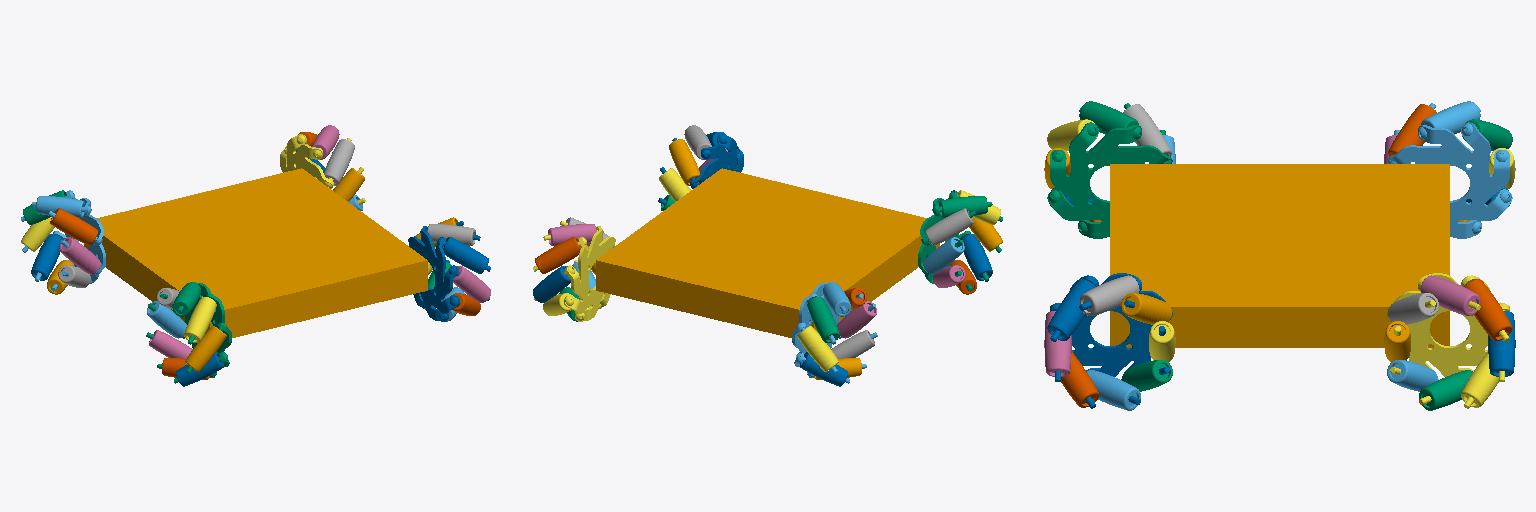
--- Facts derived from the render (not from the file) ---
3 views of the same robot in one strip: view 1: azimuth 30°, elevation 25°; view 2: azimuth 150°, elevation 25°; view 3: azimuth 270°, elevation 25° (orthographic).
Robot: OMNIDIRECTIONAL — 37 links, 36 joints (36 continuous); root link base_link; default pose: every joint at zero.
Visible links, largest first — view 1: base_link, FRAMEMirrorMirror1, FRAMEMirror1, FRAMEMirrorMirrorMirror1, FRAMEMirrorMirror_11, ROLLERMirrorMirror_18, ROLLERMirrorMirrorMirror8, ROLLERMirrorMirror7, ROLLERMirrorMirrorMirror4, ROLLERMirrorMirror_13, ROLLERMirror3, ROLLERMirrorMirror_17 (+9 smaller); view 2: base_link, FRAMEMirror1, FRAMEMirrorMirror1, FRAMEMirrorMirror_11, FRAMEMirrorMirrorMirror1, ROLLERMirrorMirrorMirror1, ROLLERMirrorMirror_14, ROLLERMirror6, ROLLERMirrorMirror_12, ROLLERMirrorMirrorMirror3, ROLLERMirrorMirror3, ROLLERMirrorMirrorMirror7 (+9 smaller); view 3: base_link, FRAMEMirrorMirror_11, FRAMEMirrorMirrorMirror1, FRAMEMirror1, FRAMEMirrorMirror1, ROLLERMirror5, ROLLERMirrorMirror5, ROLLERMirror6, ROLLERMirrorMirror7, ROLLERMirror1, ROLLERMirrorMirror1, ROLLERMirror3 (+15 smaller).
Link boxes in pixels (bbox=[...]): base_link: bbox=[84, 168, 427, 337]; FRAMEMirrorMirror1: bbox=[408, 221, 490, 321]; FRAMEMirror1: bbox=[280, 134, 365, 204]; FRAMEMirrorMirrorMirror1: bbox=[146, 282, 231, 383]; FRAMEMirrorMirror_11: bbox=[21, 190, 105, 291]; ROLLERMirrorMirror_18: bbox=[50, 208, 97, 245]; ROLLERMirrorMirrorMirror8: bbox=[185, 326, 226, 371]; ROLLERMirrorMirror7: bbox=[442, 237, 488, 273]; ROLLERMirrorMirrorMirror4: bbox=[184, 297, 216, 342]; ROLLERMirrorMirror_13: bbox=[31, 234, 62, 280]; ROLLERMirror3: bbox=[324, 139, 354, 185]; ROLLERMirrorMirror_17: bbox=[59, 237, 100, 274]; base_link: bbox=[596, 168, 939, 337]; FRAMEMirror1: bbox=[533, 221, 615, 321]; FRAMEMirrorMirror1: bbox=[658, 134, 743, 204]; FRAMEMirrorMirror_11: bbox=[792, 282, 877, 383]; FRAMEMirrorMirrorMirror1: bbox=[918, 190, 1002, 291]; ROLLERMirrorMirrorMirror1: bbox=[926, 208, 973, 245]; ROLLERMirrorMirror_14: bbox=[797, 326, 838, 371]; ROLLERMirror6: bbox=[535, 237, 581, 273]; ROLLERMirrorMirror_12: bbox=[807, 297, 839, 342]; ROLLERMirrorMirrorMirror3: bbox=[961, 234, 992, 280]; ROLLERMirrorMirror3: bbox=[669, 139, 699, 185]; ROLLERMirrorMirrorMirror7: bbox=[923, 237, 964, 274]; base_link: bbox=[1110, 164, 1449, 347]; FRAMEMirrorMirror_11: bbox=[1387, 103, 1512, 238]; FRAMEMirrorMirrorMirror1: bbox=[1047, 103, 1172, 238]; FRAMEMirror1: bbox=[1387, 273, 1509, 408]; FRAMEMirrorMirror1: bbox=[1050, 273, 1172, 408]; ROLLERMirror5: bbox=[1420, 275, 1480, 315]; ROLLERMirrorMirror5: bbox=[1079, 275, 1139, 315]; ROLLERMirror6: bbox=[1464, 279, 1512, 340]; ROLLERMirrorMirror7: bbox=[1047, 279, 1095, 340]; ROLLERMirror1: bbox=[1419, 370, 1472, 410]; ROLLERMirrorMirror1: bbox=[1087, 370, 1140, 410]; ROLLERMirror3: bbox=[1388, 293, 1438, 324].
Size in the robot's own frame: 0.2088 by 0.208 by 0.058 metres.
37 mesh visuals loaded from 37 distinct referenced files (37 binary STL).

URDF robot description (OMNIDIRECTIONAL):
<?xml version="1.0" ?>
<robot name="OMNIDIRECTIONAL">

<material name="silver">
  <color rgba="0.700 0.700 0.700 1.000"/>
</material>

<link name="base_link">
  <inertial>
    <origin xyz="-0.075 0.105 0.01" rpy="0 0 0"/>
    <mass value="3.5324999999999998"/>
    <inertia ixx="0.006741187500000009" iyy="0.006741187499999999" izz="0.013246875000000012" ixy="0.0" iyz="0.0" ixz="0.0"/>
  </inertial>
  <visual>
    <origin xyz="0 0 0" rpy="0 0 0"/>
    <geometry>
      <mesh filename="meshes/base_link.stl" scale="0.001 0.001 0.001"/>
    </geometry>
    <material name="silver"/>
    <material/>
  </visual>
  <collision>
    <origin xyz="0 0 0" rpy="0 0 0"/>
    <geometry>
      <mesh filename="meshes/base_link.stl" scale="0.001 0.001 0.001"/>
    </geometry>
  </collision>
</link>

<link name="ROLLERMirror2">
  <inertial>
    <origin xyz="-2.3803035404182382e-07 -3.424767636983628e-07 4.3054225323628514e-07" rpy="0 0 0"/>
    <mass value="0.02047655371552846"/>
    <inertia ixx="8.447399050387754e-07" iyy="1.0802059469359896e-06" izz="1.0802059469360286e-06" ixy="3.3299927073973857e-07" iyz="2.3546604189711765e-07" ixz="-3.329992707397786e-07"/>
  </inertial>
  <visual>
    <origin xyz="-0.016067 -0.163524 0.006051" rpy="0 0 0"/>
    <geometry>
      <mesh filename="meshes/ROLLERMirror2.stl" scale="0.001 0.001 0.001"/>
    </geometry>
    <material name="silver"/>
    <material/>
  </visual>
  <collision>
    <origin xyz="-0.016067 -0.163524 0.006051" rpy="0 0 0"/>
    <geometry>
      <mesh filename="meshes/ROLLERMirror2.stl" scale="0.001 0.001 0.001"/>
    </geometry>
  </collision>
</link>

<link name="ROLLERMirror1">
  <inertial>
    <origin xyz="-2.3803035383018756e-07 -6.698900456569845e-08 4.492760330432333e-14" rpy="0 0 0"/>
    <mass value="0.02047655371552846"/>
    <inertia ixx="8.447399050388838e-07" iyy="8.447399050388855e-07" izz="1.3156719888329565e-06" ixy="4.709320849405216e-07" iyz="2.710505431213761e-20" ixz="-2.710505431213761e-20"/>
  </inertial>
  <visual>
    <origin xyz="-0.016067 -0.179699 0.013" rpy="0 0 0"/>
    <geometry>
      <mesh filename="meshes/ROLLERMirror1.stl" scale="0.001 0.001 0.001"/>
    </geometry>
    <material name="silver"/>
    <material/>
  </visual>
  <collision>
    <origin xyz="-0.016067 -0.179699 0.013" rpy="0 0 0"/>
    <geometry>
      <mesh filename="meshes/ROLLERMirror1.stl" scale="0.001 0.001 0.001"/>
    </geometry>
  </collision>
</link>

<link name="ROLLERMirror8">
  <inertial>
    <origin xyz="-2.3803035460734367e-07 -4.305422693917649e-07 -3.42476780164358e-07" rpy="0 0 0"/>
    <mass value="0.02047655371552846"/>
    <inertia ixx="8.447399050387754e-07" iyy="1.0802059469359939e-06" izz="1.0802059469360286e-06" ixy="3.3299927073979956e-07" iyz="-2.35466041897077e-07" ixz="3.329992707397538e-07"/>
  </inertial>
  <visual>
    <origin xyz="-0.016067 -0.196051 0.006476" rpy="0 0 0"/>
    <geometry>
      <mesh filename="meshes/ROLLERMirror8.stl" scale="0.001 0.001 0.001"/>
    </geometry>
    <material name="silver"/>
    <material/>
  </visual>
  <collision>
    <origin xyz="-0.016067 -0.196051 0.006476" rpy="0 0 0"/>
    <geometry>
      <mesh filename="meshes/ROLLERMirror8.stl" scale="0.001 0.001 0.001"/>
    </geometry>
  </collision>
</link>

<link name="ROLLERMirror7">
  <inertial>
    <origin xyz="-2.3803035563776942e-07 -6.103451077876798e-14 -6.698902137690366e-08" rpy="0 0 0"/>
    <mass value="0.02047655371552846"/>
    <inertia ixx="8.44739905038667e-07" iyy="1.3156719888330768e-06" izz="8.447399050388838e-07" ixy="0.0" iyz="2.0328790734103208e-20" ixz="4.709320849405199e-07"/>
  </inertial>
  <visual>
    <origin xyz="-0.016067 -0.203 -0.009699" rpy="0 0 0"/>
    <geometry>
      <mesh filename="meshes/ROLLERMirror7.stl" scale="0.001 0.001 0.001"/>
    </geometry>
    <material name="silver"/>
    <material/>
  </visual>
  <collision>
    <origin xyz="-0.016067 -0.203 -0.009699" rpy="0 0 0"/>
    <geometry>
      <mesh filename="meshes/ROLLERMirror7.stl" scale="0.001 0.001 0.001"/>
    </geometry>
  </collision>
</link>

<link name="ROLLERMirror6">
  <inertial>
    <origin xyz="-2.3803035652941729e-07 3.4247676442000774e-07 -4.305422861804187e-07" rpy="0 0 0"/>
    <mass value="0.02047655371552846"/>
    <inertia ixx="8.44739905038667e-07" iyy="1.0802059469359507e-06" izz="1.0802059469360286e-06" ixy="-3.3299927073979956e-07" iyz="2.354660418971041e-07" ixz="3.3299927073974027e-07"/>
  </inertial>
  <visual>
    <origin xyz="-0.016067 -0.196476 -0.026051" rpy="0 0 0"/>
    <geometry>
      <mesh filename="meshes/ROLLERMirror6.stl" scale="0.001 0.001 0.001"/>
    </geometry>
    <material name="silver"/>
    <material/>
  </visual>
  <collision>
    <origin xyz="-0.016067 -0.196476 -0.026051" rpy="0 0 0"/>
    <geometry>
      <mesh filename="meshes/ROLLERMirror6.stl" scale="0.001 0.001 0.001"/>
    </geometry>
  </collision>
</link>

<link name="ROLLERMirror5">
  <inertial>
    <origin xyz="-2.3803035652941729e-07 6.698900534285457e-08 -7.790296185916645e-14" rpy="0 0 0"/>
    <mass value="0.02047655371552846"/>
    <inertia ixx="8.447399050387754e-07" iyy="8.447399050388534e-07" izz="1.3156719888329565e-06" ixy="-4.709320849405148e-07" iyz="-4.0657581468206416e-20" ixz="-3.218725199566341e-20"/>
  </inertial>
  <visual>
    <origin xyz="-0.016067 -0.180301 -0.033" rpy="0 0 0"/>
    <geometry>
      <mesh filename="meshes/ROLLERMirror5.stl" scale="0.001 0.001 0.001"/>
    </geometry>
    <material name="silver"/>
    <material/>
  </visual>
  <collision>
    <origin xyz="-0.016067 -0.180301 -0.033" rpy="0 0 0"/>
    <geometry>
      <mesh filename="meshes/ROLLERMirror5.stl" scale="0.001 0.001 0.001"/>
    </geometry>
  </collision>
</link>

<link name="ROLLERMirror3">
  <inertial>
    <origin xyz="-2.3803035617206425e-07 4.305422699468764e-07 3.4247674755155666e-07" rpy="0 0 0"/>
    <mass value="0.02047655371552846"/>
    <inertia ixx="8.447399050388838e-07" iyy="1.0802059469359608e-06" izz="1.0802059469359202e-06" ixy="-3.329992707397589e-07" iyz="-2.354660418971312e-07" ixz="-3.329992707397657e-07"/>
  </inertial>
  <visual>
    <origin xyz="-0.016067 -0.163949 -0.026476" rpy="0 0 0"/>
    <geometry>
      <mesh filename="meshes/ROLLERMirror3.stl" scale="0.001 0.001 0.001"/>
    </geometry>
    <material name="silver"/>
    <material/>
  </visual>
  <collision>
    <origin xyz="-0.016067 -0.163949 -0.026476" rpy="0 0 0"/>
    <geometry>
      <mesh filename="meshes/ROLLERMirror3.stl" scale="0.001 0.001 0.001"/>
    </geometry>
  </collision>
</link>

<link name="ROLLERMirror4">
  <inertial>
    <origin xyz="-2.380303550375551e-07 6.217248937900877e-14 6.698898856981328e-08" rpy="0 0 0"/>
    <mass value="0.02047655371552846"/>
    <inertia ixx="8.447399050388838e-07" iyy="1.3156719888330785e-06" izz="8.447399050387754e-07" ixy="-1.3552527156068805e-20" iyz="-1.3552527156068805e-20" ixz="-4.709320849405182e-07"/>
  </inertial>
  <visual>
    <origin xyz="-0.016067 -0.157 -0.010301" rpy="0 0 0"/>
    <geometry>
      <mesh filename="meshes/ROLLERMirror4.stl" scale="0.001 0.001 0.001"/>
    </geometry>
    <material name="silver"/>
    <material/>
  </visual>
  <collision>
    <origin xyz="-0.016067 -0.157 -0.010301" rpy="0 0 0"/>
    <geometry>
      <mesh filename="meshes/ROLLERMirror4.stl" scale="0.001 0.001 0.001"/>
    </geometry>
  </collision>
</link>

<link name="ROLLERMirrorMirror1">
  <inertial>
    <origin xyz="-2.3803034835886971e-07 6.698900459692347e-08 6.49671288988074e-14" rpy="0 0 0"/>
    <mass value="0.02047655371552846"/>
    <inertia ixx="8.447399050388466e-07" iyy="8.447399050388788e-07" izz="1.3156719888330887e-06" ixy="-4.709320849405216e-07" iyz="1.1858461261560205e-20" ixz="9.317362419797304e-21"/>
  </inertial>
  <visual>
    <origin xyz="-0.016067 -0.030301 0.013" rpy="0 0 0"/>
    <geometry>
      <mesh filename="meshes/ROLLERMirrorMirror1.stl" scale="0.001 0.001 0.001"/>
    </geometry>
    <material name="silver"/>
    <material/>
  </visual>
  <collision>
    <origin xyz="-0.016067 -0.030301 0.013" rpy="0 0 0"/>
    <geometry>
      <mesh filename="meshes/ROLLERMirrorMirror1.stl" scale="0.001 0.001 0.001"/>
    </geometry>
  </collision>
</link>

<link name="ROLLERMirrorMirror2">
  <inertial>
    <origin xyz="-2.3803034803621115e-07 3.424767638857129e-07 4.3054227321249333e-07" rpy="0 0 0"/>
    <mass value="0.02047655371552846"/>
    <inertia ixx="8.447399050388364e-07" iyy="1.0802059469359854e-06" izz="1.0802059469359812e-06" ixy="-3.329992707397623e-07" iyz="-2.3546604189709478e-07" ixz="-3.3299927073976017e-07"/>
  </inertial>
  <visual>
    <origin xyz="-0.016067 -0.046476 0.006051" rpy="0 0 0"/>
    <geometry>
      <mesh filename="meshes/ROLLERMirrorMirror2.stl" scale="0.001 0.001 0.001"/>
    </geometry>
    <material name="silver"/>
    <material/>
  </visual>
  <collision>
    <origin xyz="-0.016067 -0.046476 0.006051" rpy="0 0 0"/>
    <geometry>
      <mesh filename="meshes/ROLLERMirrorMirror2.stl" scale="0.001 0.001 0.001"/>
    </geometry>
  </collision>
</link>

<link name="ROLLERMirrorMirror4">
  <inertial>
    <origin xyz="-2.3803034729028005e-07 -6.178391132038996e-14 6.698900846535683e-08" rpy="0 0 0"/>
    <mass value="0.02047655371552846"/>
    <inertia ixx="8.447399050388432e-07" iyy="1.3156719888330776e-06" izz="8.447399050388838e-07" ixy="1.3552527156068805e-20" iyz="6.776263578034403e-21" ixz="-4.709320849405195e-07"/>
  </inertial>
  <visual>
    <origin xyz="-0.016067 -0.053 -0.010301" rpy="0 0 0"/>
    <geometry>
      <mesh filename="meshes/ROLLERMirrorMirror4.stl" scale="0.001 0.001 0.001"/>
    </geometry>
    <material name="silver"/>
    <material/>
  </visual>
  <collision>
    <origin xyz="-0.016067 -0.053 -0.010301" rpy="0 0 0"/>
    <geometry>
      <mesh filename="meshes/ROLLERMirrorMirror4.stl" scale="0.001 0.001 0.001"/>
    </geometry>
  </collision>
</link>

<link name="ROLLERMirrorMirror7">
  <inertial>
    <origin xyz="-2.380303479286583e-07 -3.424767645275606e-07 -4.305422661270153e-07" rpy="0 0 0"/>
    <mass value="0.02047655371552846"/>
    <inertia ixx="8.447399050388872e-07" iyy="1.080205946935954e-06" izz="1.0802059469359642e-06" ixy="3.329992707397657e-07" iyz="-2.354660418971151e-07" ixz="3.329992707397589e-07"/>
  </inertial>
  <visual>
    <origin xyz="-0.016067 -0.013524 -0.026051" rpy="0 0 0"/>
    <geometry>
      <mesh filename="meshes/ROLLERMirrorMirror7.stl" scale="0.001 0.001 0.001"/>
    </geometry>
    <material name="silver"/>
    <material/>
  </visual>
  <collision>
    <origin xyz="-0.016067 -0.013524 -0.026051" rpy="0 0 0"/>
    <geometry>
      <mesh filename="meshes/ROLLERMirrorMirror7.stl" scale="0.001 0.001 0.001"/>
    </geometry>
  </collision>
</link>

<link name="ROLLERMirrorMirror8">
  <inertial>
    <origin xyz="-2.3803034825131686e-07 4.30542269221762e-07 -3.424767605350945e-07" rpy="0 0 0"/>
    <mass value="0.02047655371552846"/>
    <inertia ixx="8.447399050388652e-07" iyy="1.0802059469359913e-06" izz="1.0802059469359693e-06" ixy="-3.3299927073975297e-07" iyz="2.3546604189710558e-07" ixz="3.3299927073977203e-07"/>
  </inertial>
  <visual>
    <origin xyz="-0.016067 -0.013949 0.006476" rpy="0 0 0"/>
    <geometry>
      <mesh filename="meshes/ROLLERMirrorMirror8.stl" scale="0.001 0.001 0.001"/>
    </geometry>
    <material name="silver"/>
    <material/>
  </visual>
  <collision>
    <origin xyz="-0.016067 -0.013949 0.006476" rpy="0 0 0"/>
    <geometry>
      <mesh filename="meshes/ROLLERMirrorMirror8.stl" scale="0.001 0.001 0.001"/>
    </geometry>
  </collision>
</link>

<link name="ROLLERMirrorMirror6">
  <inertial>
    <origin xyz="-2.38030348143764e-07 6.08532321755284e-14 -6.69890015542185e-08" rpy="0 0 0"/>
    <mass value="0.02047655371552846"/>
    <inertia ixx="8.447399050388775e-07" iyy="1.3156719888330802e-06" izz="8.447399050388517e-07" ixy="1.0587911840678754e-20" iyz="-1.6093625997831706e-20" ixz="4.709320849405182e-07"/>
  </inertial>
  <visual>
    <origin xyz="-0.016067 -0.007 -0.009699" rpy="0 0 0"/>
    <geometry>
      <mesh filename="meshes/ROLLERMirrorMirror6.stl" scale="0.001 0.001 0.001"/>
    </geometry>
    <material name="silver"/>
    <material/>
  </visual>
  <collision>
    <origin xyz="-0.016067 -0.007 -0.009699" rpy="0 0 0"/>
    <geometry>
      <mesh filename="meshes/ROLLERMirrorMirror6.stl" scale="0.001 0.001 0.001"/>
    </geometry>
  </collision>
</link>

<link name="ROLLERMirrorMirror5">
  <inertial>
    <origin xyz="-2.3803034768232756e-07 -6.698900534285457e-08 -5.801609193056834e-14" rpy="0 0 0"/>
    <mass value="0.02047655371552846"/>
    <inertia ixx="8.447399050388771e-07" iyy="8.447399050388432e-07" izz="1.3156719888330819e-06" ixy="4.709320849405182e-07" iyz="0.0" ixz="6.776263578034403e-21"/>
  </inertial>
  <visual>
    <origin xyz="-0.016067 -0.029699 -0.033" rpy="0 0 0"/>
    <geometry>
      <mesh filename="meshes/ROLLERMirrorMirror5.stl" scale="0.001 0.001 0.001"/>
    </geometry>
    <material name="silver"/>
    <material/>
  </visual>
  <collision>
    <origin xyz="-0.016067 -0.029699 -0.033" rpy="0 0 0"/>
    <geometry>
      <mesh filename="meshes/ROLLERMirrorMirror5.stl" scale="0.001 0.001 0.001"/>
    </geometry>
  </collision>
</link>

<link name="ROLLERMirrorMirror3">
  <inertial>
    <origin xyz="-2.3803034729028005e-07 -4.305422699260597e-07 3.4247676748005995e-07" rpy="0 0 0"/>
    <mass value="0.02047655371552846"/>
    <inertia ixx="8.447399050388838e-07" iyy="1.0802059469359642e-06" izz="1.080205946935988e-06" ixy="3.3299927073977245e-07" iyz="2.3546604189710749e-07" ixz="-3.3299927073975043e-07"/>
  </inertial>
  <visual>
    <origin xyz="-0.016067 -0.046051 -0.026476" rpy="0 0 0"/>
    <geometry>
      <mesh filename="meshes/ROLLERMirrorMirror3.stl" scale="0.001 0.001 0.001"/>
    </geometry>
    <material name="silver"/>
    <material/>
  </visual>
  <collision>
    <origin xyz="-0.016067 -0.046051 -0.026476" rpy="0 0 0"/>
    <geometry>
      <mesh filename="meshes/ROLLERMirrorMirror3.stl" scale="0.001 0.001 0.001"/>
    </geometry>
  </collision>
</link>

<link name="ROLLERMirrorMirrorMirror7">
  <inertial>
    <origin xyz="2.3803034907010634e-07 -6.112471639951877e-14 6.69890048501931e-08" rpy="0 0 0"/>
    <mass value="0.02047655371552846"/>
    <inertia ixx="8.447399050388567e-07" iyy="1.3156719888331734e-06" izz="8.447399050389923e-07" ixy="2.710505431213761e-20" iyz="0.0" ixz="4.7093208494053515e-07"/>
  </inertial>
  <visual>
    <origin xyz="0.166067 -0.053 -0.010301" rpy="0 0 0"/>
    <geometry>
      <mesh filename="meshes/ROLLERMirrorMirrorMirror7.stl" scale="0.001 0.001 0.001"/>
    </geometry>
    <material name="silver"/>
    <material/>
  </visual>
  <collision>
    <origin xyz="0.166067 -0.053 -0.010301" rpy="0 0 0"/>
    <geometry>
      <mesh filename="meshes/ROLLERMirrorMirrorMirror7.stl" scale="0.001 0.001 0.001"/>
    </geometry>
  </collision>
</link>

<link name="ROLLERMirrorMirrorMirror2">
  <inertial>
    <origin xyz="2.3803034931990652e-07 -6.698900495080706e-08 -6.152023335204149e-14" rpy="0 0 0"/>
    <mass value="0.02047655371552846"/>
    <inertia ixx="8.447399050388703e-07" iyy="8.447399050389923e-07" izz="1.3156719888331734e-06" ixy="-4.709320849405216e-07" iyz="3.3881317890172014e-21" ixz="-1.3552527156068805e-20"/>
  </inertial>
  <visual>
    <origin xyz="0.166067 -0.029699 -0.033" rpy="0 0 0"/>
    <geometry>
      <mesh filename="meshes/ROLLERMirrorMirrorMirror2.stl" scale="0.001 0.001 0.001"/>
    </geometry>
    <material name="silver"/>
    <material/>
  </visual>
  <collision>
    <origin xyz="0.166067 -0.029699 -0.033" rpy="0 0 0"/>
    <geometry>
      <mesh filename="meshes/ROLLERMirrorMirrorMirror2.stl" scale="0.001 0.001 0.001"/>
    </geometry>
  </collision>
</link>

<link name="ROLLERMirrorMirrorMirror4">
  <inertial>
    <origin xyz="2.3803034959746228e-07 -3.4247676412683947e-07 -4.305422697248318e-07" rpy="0 0 0"/>
    <mass value="0.02047655371552846"/>
    <inertia ixx="8.447399050388669e-07" iyy="1.0802059469359202e-06" izz="1.080205946936137e-06" ixy="-3.329992707397589e-07" iyz="-2.354660418971041e-07" ixz="-3.3299927073974535e-07"/>
  </inertial>
  <visual>
    <origin xyz="0.166067 -0.013524 -0.026051" rpy="0 0 0"/>
    <geometry>
      <mesh filename="meshes/ROLLERMirrorMirrorMirror4.stl" scale="0.001 0.001 0.001"/>
    </geometry>
    <material name="silver"/>
    <material/>
  </visual>
  <collision>
    <origin xyz="0.166067 -0.013524 -0.026051" rpy="0 0 0"/>
    <geometry>
      <mesh filename="meshes/ROLLERMirrorMirrorMirror4.stl" scale="0.001 0.001 0.001"/>
    </geometry>
  </collision>
</link>

<link name="ROLLERMirrorMirrorMirror3">
  <inertial>
    <origin xyz="2.3803034937541767e-07 4.3054226961034003e-07 -3.4247676422224926e-07" rpy="0 0 0"/>
    <mass value="0.02047655371552846"/>
    <inertia ixx="8.447399050388584e-07" iyy="1.0802059469359202e-06" izz="1.0802059469360286e-06" ixy="3.329992707397657e-07" iyz="2.3546604189710537e-07" ixz="-3.329992707397623e-07"/>
  </inertial>
  <visual>
    <origin xyz="0.166067 -0.013949 0.006476" rpy="0 0 0"/>
    <geometry>
      <mesh filename="meshes/ROLLERMirrorMirrorMirror3.stl" scale="0.001 0.001 0.001"/>
    </geometry>
    <material name="silver"/>
    <material/>
  </visual>
  <collision>
    <origin xyz="0.166067 -0.013949 0.006476" rpy="0 0 0"/>
    <geometry>
      <mesh filename="meshes/ROLLERMirrorMirrorMirror3.stl" scale="0.001 0.001 0.001"/>
    </geometry>
  </collision>
</link>

<link name="ROLLERMirrorMirrorMirror5">
  <inertial>
    <origin xyz="2.3803034926439537e-07 6.698900503060434e-08 6.123400397850531e-14" rpy="0 0 0"/>
    <mass value="0.02047655371552846"/>
    <inertia ixx="8.447399050388601e-07" iyy="8.447399050388838e-07" izz="1.315671988833065e-06" ixy="4.7093208494050805e-07" iyz="3.3881317890172014e-21" ixz="0.0"/>
  </inertial>
  <visual>
    <origin xyz="0.166067 -0.030301 0.013" rpy="0 0 0"/>
    <geometry>
      <mesh filename="meshes/ROLLERMirrorMirrorMirror5.stl" scale="0.001 0.001 0.001"/>
    </geometry>
    <material name="silver"/>
    <material/>
  </visual>
  <collision>
    <origin xyz="0.166067 -0.030301 0.013" rpy="0 0 0"/>
    <geometry>
      <mesh filename="meshes/ROLLERMirrorMirrorMirror5.stl" scale="0.001 0.001 0.001"/>
    </geometry>
  </collision>
</link>

<link name="ROLLERMirrorMirrorMirror6">
  <inertial>
    <origin xyz="2.380303490145952e-07 3.4247676428122986e-07 4.3054226956957403e-07" rpy="0 0 0"/>
    <mass value="0.02047655371552846"/>
    <inertia ixx="8.447399050388703e-07" iyy="1.0802059469359202e-06" izz="1.0802059469358118e-06" ixy="3.3299927073974535e-07" iyz="-2.3546604189710325e-07" ixz="3.329992707397657e-07"/>
  </inertial>
  <visual>
    <origin xyz="0.166067 -0.046476 0.006051" rpy="0 0 0"/>
    <geometry>
      <mesh filename="meshes/ROLLERMirrorMirrorMirror6.stl" scale="0.001 0.001 0.001"/>
    </geometry>
    <material name="silver"/>
    <material/>
  </visual>
  <collision>
    <origin xyz="0.166067 -0.046476 0.006051" rpy="0 0 0"/>
    <geometry>
      <mesh filename="meshes/ROLLERMirrorMirrorMirror6.stl" scale="0.001 0.001 0.001"/>
    </geometry>
  </collision>
</link>

<link name="ROLLERMirrorMirrorMirror1">
  <inertial>
    <origin xyz="2.3803034915337307e-07 -4.3054226941952045e-07 3.424767637955073e-07" rpy="0 0 0"/>
    <mass value="0.02047655371552846"/>
    <inertia ixx="8.447399050388771e-07" iyy="1.0802059469358118e-06" izz="1.0802059469359202e-06" ixy="-3.3299927073977245e-07" iyz="2.3546604189710749e-07" ixz="3.329992707397589e-07"/>
  </inertial>
  <visual>
    <origin xyz="0.166067 -0.046051 -0.026476" rpy="0 0 0"/>
    <geometry>
      <mesh filename="meshes/ROLLERMirrorMirrorMirror1.stl" scale="0.001 0.001 0.001"/>
    </geometry>
    <material name="silver"/>
    <material/>
  </visual>
  <collision>
    <origin xyz="0.166067 -0.046051 -0.026476" rpy="0 0 0"/>
    <geometry>
      <mesh filename="meshes/ROLLERMirrorMirrorMirror1.stl" scale="0.001 0.001 0.001"/>
    </geometry>
  </collision>
</link>

<link name="ROLLERMirrorMirrorMirror8">
  <inertial>
    <origin xyz="2.3803039278513793e-07 1.5612511283791264e-16 -6.698904826685226e-08" rpy="0 0 0"/>
    <mass value="0.02047655371552846"/>
    <inertia ixx="8.447399044657115e-07" iyy="1.3156719899792835e-06" izz="8.447399044655577e-07" ixy="0.0" iyz="3.5998900258307764e-21" ixz="-4.709320843673717e-07"/>
  </inertial>
  <visual>
    <origin xyz="0.166067 -0.007 -0.009699" rpy="0 0 0"/>
    <geometry>
      <mesh filename="meshes/ROLLERMirrorMirrorMirror8.stl" scale="0.001 0.001 0.001"/>
    </geometry>
    <material name="silver"/>
    <material/>
  </visual>
  <collision>
    <origin xyz="0.166067 -0.007 -0.009699" rpy="0 0 0"/>
    <geometry>
      <mesh filename="meshes/ROLLERMirrorMirrorMirror8.stl" scale="0.001 0.001 0.001"/>
    </geometry>
  </collision>
</link>

<link name="ROLLERMirrorMirror_11">
  <inertial>
    <origin xyz="2.3803034937541767e-07 6.698900495427651e-08 -6.183942247162122e-14" rpy="0 0 0"/>
    <mass value="0.02047655371552846"/>
    <inertia ixx="8.447399050387754e-07" iyy="8.447399050387754e-07" izz="1.315671988833065e-06" ixy="4.7093208494039963e-07" iyz="1.3552527156068805e-20" ixz="-1.3552527156068805e-20"/>
  </inertial>
  <visual>
    <origin xyz="0.166067 -0.180301 -0.033" rpy="0 0 0"/>
    <geometry>
      <mesh filename="meshes/ROLLERMirrorMirror_11.stl" scale="0.001 0.001 0.001"/>
    </geometry>
    <material name="silver"/>
    <material/>
  </visual>
  <collision>
    <origin xyz="0.166067 -0.180301 -0.033" rpy="0 0 0"/>
    <geometry>
      <mesh filename="meshes/ROLLERMirrorMirror_11.stl" scale="0.001 0.001 0.001"/>
    </geometry>
  </collision>
</link>

<link name="ROLLERMirrorMirror_12">
  <inertial>
    <origin xyz="2.3803034970848458e-07 3.424767640036741e-07 -4.305422699989181e-07" rpy="0 0 0"/>
    <mass value="0.02047655371552846"/>
    <inertia ixx="8.447399050391007e-07" iyy="1.0802059469360286e-06" izz="1.0802059469360286e-06" ixy="3.3299927073985377e-07" iyz="2.3546604189711765e-07" ixz="-3.3299927073974535e-07"/>
  </inertial>
  <visual>
    <origin xyz="0.166067 -0.196476 -0.026051" rpy="0 0 0"/>
    <geometry>
      <mesh filename="meshes/ROLLERMirrorMirror_12.stl" scale="0.001 0.001 0.001"/>
    </geometry>
    <material name="silver"/>
    <material/>
  </visual>
  <collision>
    <origin xyz="0.166067 -0.196476 -0.026051" rpy="0 0 0"/>
    <geometry>
      <mesh filename="meshes/ROLLERMirrorMirror_12.stl" scale="0.001 0.001 0.001"/>
    </geometry>
  </collision>
</link>

<link name="ROLLERMirrorMirror_14">
  <inertial>
    <origin xyz="2.3803034948643997e-07 -6.136757768615553e-14 -6.698900527520035e-08" rpy="0 0 0"/>
    <mass value="0.02047655371552846"/>
    <inertia ixx="8.447399050387754e-07" iyy="1.3156719888329565e-06" izz="8.447399050389923e-07" ixy="0.0" iyz="6.776263578034403e-21" ixz="-4.709320849405148e-07"/>
  </inertial>
  <visual>
    <origin xyz="0.166067 -0.203 -0.009699" rpy="0 0 0"/>
    <geometry>
      <mesh filename="meshes/ROLLERMirrorMirror_14.stl" scale="0.001 0.001 0.001"/>
    </geometry>
    <material name="silver"/>
    <material/>
  </visual>
  <collision>
    <origin xyz="0.166067 -0.203 -0.009699" rpy="0 0 0"/>
    <geometry>
      <mesh filename="meshes/ROLLERMirrorMirror_14.stl" scale="0.001 0.001 0.001"/>
    </geometry>
  </collision>
</link>

<link name="ROLLERMirrorMirror_13">
  <inertial>
    <origin xyz="2.380303494586844e-07 -4.3054226966932063e-07 -3.4247676434541463e-07" rpy="0 0 0"/>
    <mass value="0.02047655371552846"/>
    <inertia ixx="8.447399050387754e-07" iyy="1.0802059469359202e-06" izz="1.0802059469360286e-06" ixy="-3.3299927073974535e-07" iyz="-2.3546604189710749e-07" ixz="-3.329992707397555e-07"/>
  </inertial>
  <visual>
    <origin xyz="0.166067 -0.196051 0.006476" rpy="0 0 0"/>
    <geometry>
      <mesh filename="meshes/ROLLERMirrorMirror_13.stl" scale="0.001 0.001 0.001"/>
    </geometry>
    <material name="silver"/>
    <material/>
  </visual>
  <collision>
    <origin xyz="0.166067 -0.196051 0.006476" rpy="0 0 0"/>
    <geometry>
      <mesh filename="meshes/ROLLERMirrorMirror_13.stl" scale="0.001 0.001 0.001"/>
    </geometry>
  </collision>
</link>

<link name="ROLLERMirrorMirror_18">
  <inertial>
    <origin xyz="2.3803034890357289e-07 4.305422696138095e-07 3.424767636185655e-07" rpy="0 0 0"/>
    <mass value="0.02047655371552846"/>
    <inertia ixx="8.447399050391007e-07" iyy="1.0802059469360286e-06" izz="1.0802059469360286e-06" ixy="3.3299927073974535e-07" iyz="-2.3546604189709055e-07" ixz="3.3299927073974535e-07"/>
  </inertial>
  <visual>
    <origin xyz="0.166067 -0.163949 -0.026476" rpy="0 0 0"/>
    <geometry>
      <mesh filename="meshes/ROLLERMirrorMirror_18.stl" scale="0.001 0.001 0.001"/>
    </geometry>
    <material name="silver"/>
    <material/>
  </visual>
  <collision>
    <origin xyz="0.166067 -0.163949 -0.026476" rpy="0 0 0"/>
    <geometry>
      <mesh filename="meshes/ROLLERMirrorMirror_18.stl" scale="0.001 0.001 0.001"/>
    </geometry>
  </collision>
</link>

<link name="ROLLERMirrorMirror_17">
  <inertial>
    <origin xyz="2.380303489868396e-07 6.11455330812305e-14 6.698900470794578e-08" rpy="0 0 0"/>
    <mass value="0.02047655371552846"/>
    <inertia ixx="8.447399050387754e-07" iyy="1.315671988833065e-06" izz="8.447399050387754e-07" ixy="0.0" iyz="0.0" ixz="4.709320849405284e-07"/>
  </inertial>
  <visual>
    <origin xyz="0.166067 -0.157 -0.010301" rpy="0 0 0"/>
    <geometry>
      <mesh filename="meshes/ROLLERMirrorMirror_17.stl" scale="0.001 0.001 0.001"/>
    </geometry>
    <material name="silver"/>
    <material/>
  </visual>
  <collision>
    <origin xyz="0.166067 -0.157 -0.010301" rpy="0 0 0"/>
    <geometry>
      <mesh filename="meshes/ROLLERMirrorMirror_17.stl" scale="0.001 0.001 0.001"/>
    </geometry>
  </collision>
</link>

<link name="ROLLERMirrorMirror_16">
  <inertial>
    <origin xyz="2.380303490145952e-07 -3.42476764142452e-07 4.305422693666114e-07" rpy="0 0 0"/>
    <mass value="0.02047655371552846"/>
    <inertia ixx="8.447399050387754e-07" iyy="1.0802059469359202e-06" izz="1.0802059469358118e-06" ixy="-3.3299927073985377e-07" iyz="2.354660418971041e-07" ixz="3.329992707397623e-07"/>
  </inertial>
  <visual>
    <origin xyz="0.166067 -0.163524 0.006051" rpy="0 0 0"/>
    <geometry>
      <mesh filename="meshes/ROLLERMirrorMirror_16.stl" scale="0.001 0.001 0.001"/>
    </geometry>
    <material name="silver"/>
    <material/>
  </visual>
  <collision>
    <origin xyz="0.166067 -0.163524 0.006051" rpy="0 0 0"/>
    <geometry>
      <mesh filename="meshes/ROLLERMirrorMirror_16.stl" scale="0.001 0.001 0.001"/>
    </geometry>
  </collision>
</link>

<link name="ROLLERMirrorMirror_15">
  <inertial>
    <origin xyz="2.3803034926439537e-07 -6.698900506529881e-08 6.102410243791212e-14" rpy="0 0 0"/>
    <mass value="0.02047655371552846"/>
    <inertia ixx="8.447399050388838e-07" iyy="8.447399050387754e-07" izz="1.315671988833065e-06" ixy="-4.7093208494061647e-07" iyz="-6.776263578034403e-21" ixz="0.0"/>
  </inertial>
  <visual>
    <origin xyz="0.166067 -0.179699 0.013" rpy="0 0 0"/>
    <geometry>
      <mesh filename="meshes/ROLLERMirrorMirror_15.stl" scale="0.001 0.001 0.001"/>
    </geometry>
    <material name="silver"/>
    <material/>
  </visual>
  <collision>
    <origin xyz="0.166067 -0.179699 0.013" rpy="0 0 0"/>
    <geometry>
      <mesh filename="meshes/ROLLERMirrorMirror_15.stl" scale="0.001 0.001 0.001"/>
    </geometry>
  </collision>
</link>

<link name="FRAMEMirrorMirror_11">
  <inertial>
    <origin xyz="-0.006438473738459793 -4.564760236469567e-10 -5.056800516517468e-10" rpy="0 0 0"/>
    <mass value="0.04425548570320003"/>
    <inertia ixx="2.085012511926932e-05" iyy="1.3324143863560492e-05" izz="1.3324145137874697e-05" ixy="-3.7231957968064666e-13" iyz="3.284101777415588e-13" ixz="-3.377521515506715e-13"/>
  </inertial>
  <visual>
    <origin xyz="0.15 -0.18 -0.01" rpy="0 0 0"/>
    <geometry>
      <mesh filename="meshes/FRAMEMirrorMirror_11.stl" scale="0.001 0.001 0.001"/>
    </geometry>
    <material name="silver"/>
    <material/>
  </visual>
  <collision>
    <origin xyz="0.15 -0.18 -0.01" rpy="0 0 0"/>
    <geometry>
      <mesh filename="meshes/FRAMEMirrorMirror_11.stl" scale="0.001 0.001 0.001"/>
    </geometry>
  </collision>
</link>

<link name="FRAMEMirrorMirrorMirror1">
  <inertial>
    <origin xyz="-0.006438473738459932 4.5647609303589576e-10 -5.056800672642581e-10" rpy="0 0 0"/>
    <mass value="0.04425548570320003"/>
    <inertia ixx="2.0850125119268575e-05" iyy="1.3324143863560492e-05" izz="1.3324145137874914e-05" ixy="3.723189833694518e-13" iyz="-3.284099321020041e-13" ixz="-3.3775211089309004e-13"/>
  </inertial>
  <visual>
    <origin xyz="0.15 -0.03 -0.01" rpy="0 0 0"/>
    <geometry>
      <mesh filename="meshes/FRAMEMirrorMirrorMirror1.stl" scale="0.001 0.001 0.001"/>
    </geometry>
    <material name="silver"/>
    <material/>
  </visual>
  <collision>
    <origin xyz="0.15 -0.03 -0.01" rpy="0 0 0"/>
    <geometry>
      <mesh filename="meshes/FRAMEMirrorMirrorMirror1.stl" scale="0.001 0.001 0.001"/>
    </geometry>
  </collision>
</link>

<link name="FRAMEMirror1">
  <inertial>
    <origin xyz="0.006438473738459809 4.564763844694397e-10 5.056801331837502e-10" rpy="0 0 0"/>
    <mass value="0.04425548570320003"/>
    <inertia ixx="2.0850125119269104e-05" iyy="1.3324143863559876e-05" izz="1.332414513787513e-05" ixy="-3.7231874620022656e-13" iyz="3.284102997143032e-13" ixz="-3.3775219432583535e-13"/>
  </inertial>
  <visual>
    <origin xyz="-0.0 -0.18 -0.01" rpy="0 0 0"/>
    <geometry>
      <mesh filename="meshes/FRAMEMirror1.stl" scale="0.001 0.001 0.001"/>
    </geometry>
    <material name="silver"/>
    <material/>
  </visual>
  <collision>
    <origin xyz="-0.0 -0.18 -0.01" rpy="0 0 0"/>
    <geometry>
      <mesh filename="meshes/FRAMEMirror1.stl" scale="0.001 0.001 0.001"/>
    </geometry>
  </collision>
</link>

<link name="FRAMEMirrorMirror1">
  <inertial>
    <origin xyz="0.0064384737384598 -4.5647622487487993e-10 5.056800117531068e-10" rpy="0 0 0"/>
    <mass value="0.04425548570320003"/>
    <inertia ixx="2.0850125119269368e-05" iyy="1.3324143863560374e-05" izz="1.332414513787532e-05" ixy="3.723191968217545e-13" iyz="-3.284101980703495e-13" ixz="-3.37752135880562e-13"/>
  </inertial>
  <visual>
    <origin xyz="-0.0 -0.03 -0.01" rpy="0 0 0"/>
    <geometry>
      <mesh filename="meshes/FRAMEMirrorMirror1.stl" scale="0.001 0.001 0.001"/>
    </geometry>
    <material name="silver"/>
    <material/>
  </visual>
  <collision>
    <origin xyz="-0.0 -0.03 -0.01" rpy="0 0 0"/>
    <geometry>
      <mesh filename="meshes/FRAMEMirrorMirror1.stl" scale="0.001 0.001 0.001"/>
    </geometry>
  </collision>
</link>

<joint name="Revolute_30" type="continuous">
  <origin xyz="0.016067 -0.016476 -0.016051" rpy="0 0 0"/>
  <parent link="FRAMEMirror1"/>
  <child link="ROLLERMirror2"/>
  <axis xyz="-0.707107 0.5 -0.5"/>
</joint>
<transmission name="Revolute_30_tran">
  <type>transmission_interface/SimpleTransmission</type>
  <joint name="Revolute_30">
    <hardwareInterface>PositionJointInterface</hardwareInterface>
  </joint>
  <actuator name="Revolute_30_actr">
    <hardwareInterface>PositionJointInterface</hardwareInterface>
    <mechanicalReduction>1</mechanicalReduction>
  </actuator>
</transmission>

<joint name="Revolute_31" type="continuous">
  <origin xyz="0.016067 -0.000301 -0.023" rpy="0 0 0"/>
  <parent link="FRAMEMirror1"/>
  <child link="ROLLERMirror1"/>
  <axis xyz="-0.707107 0.707107 0.0"/>
</joint>
<transmission name="Revolute_31_tran">
  <type>transmission_interface/SimpleTransmission</type>
  <joint name="Revolute_31">
    <hardwareInterface>PositionJointInterface</hardwareInterface>
  </joint>
  <actuator name="Revolute_31_actr">
    <hardwareInterface>PositionJointInterface</hardwareInterface>
    <mechanicalReduction>1</mechanicalReduction>
  </actuator>
</transmission>

<joint name="Revolute_32" type="continuous">
  <origin xyz="0.016067 0.016051 -0.016476" rpy="0 0 0"/>
  <parent link="FRAMEMirror1"/>
  <child link="ROLLERMirror8"/>
  <axis xyz="-0.707107 0.5 0.5"/>
</joint>
<transmission name="Revolute_32_tran">
  <type>transmission_interface/SimpleTransmission</type>
  <joint name="Revolute_32">
    <hardwareInterface>PositionJointInterface</hardwareInterface>
  </joint>
  <actuator name="Revolute_32_actr">
    <hardwareInterface>PositionJointInterface</hardwareInterface>
    <mechanicalReduction>1</mechanicalReduction>
  </actuator>
</transmission>

<joint name="Revolute_33" type="continuous">
  <origin xyz="0.016067 0.023 -0.000301" rpy="0 0 0"/>
  <parent link="FRAMEMirror1"/>
  <child link="ROLLERMirror7"/>
  <axis xyz="-0.707107 -0.0 0.707107"/>
</joint>
<transmission name="Revolute_33_tran">
  <type>transmission_interface/SimpleTransmission</type>
  <joint name="Revolute_33">
    <hardwareInterface>PositionJointInterface</hardwareInterface>
  </joint>
  <actuator name="Revolute_33_actr">
    <hardwareInterface>PositionJointInterface</hardwareInterface>
    <mechanicalReduction>1</mechanicalReduction>
  </actuator>
</transmission>

<joint name="Revolute_34" type="continuous">
  <origin xyz="0.016067 0.016476 0.016051" rpy="0 0 0"/>
  <parent link="FRAMEMirror1"/>
  <child link="ROLLERMirror6"/>
  <axis xyz="-0.707107 -0.5 0.5"/>
</joint>
<transmission name="Revolute_34_tran">
  <type>transmission_interface/SimpleTransmission</type>
  <joint name="Revolute_34">
    <hardwareInterface>PositionJointInterface</hardwareInterface>
  </joint>
  <actuator name="Revolute_34_actr">
    <hardwareInterface>PositionJointInterface</hardwareInterface>
    <mechanicalReduction>1</mechanicalReduction>
  </actuator>
</transmission>

<joint name="Revolute_35" type="continuous">
  <origin xyz="0.016067 0.000301 0.023" rpy="0 0 0"/>
  <parent link="FRAMEMirror1"/>
  <child link="ROLLERMirror5"/>
  <axis xyz="-0.707107 -0.707107 -0.0"/>
</joint>
<transmission name="Revolute_35_tran">
  <type>transmission_interface/SimpleTransmission</type>
  <joint name="Revolute_35">
    <hardwareInterface>PositionJointInterface</hardwareInterface>
  </joint>
  <actuator name="Revolute_35_actr">
    <hardwareInterface>PositionJointInterface</hardwareInterface>
    <mechanicalReduction>1</mechanicalReduction>
  </actuator>
</transmission>

<joint name="Revolute_36" type="continuous">
  <origin xyz="0.016067 -0.016051 0.016476" rpy="0 0 0"/>
  <parent link="FRAMEMirror1"/>
  <child link="ROLLERMirror3"/>
  <axis xyz="-0.707107 -0.5 -0.5"/>
</joint>
<transmission name="Revolute_36_tran">
  <type>transmission_interface/SimpleTransmission</type>
  <joint name="Revolute_36">
    <hardwareInterface>PositionJointInterface</hardwareInterface>
  </joint>
  <actuator name="Revolute_36_actr">
    <hardwareInterface>PositionJointInterface</hardwareInterface>
    <mechanicalReduction>1</mechanicalReduction>
  </actuator>
</transmission>

<joint name="Revolute_37" type="continuous">
  <origin xyz="0.016067 -0.023 0.000301" rpy="0 0 0"/>
  <parent link="FRAMEMirror1"/>
  <child link="ROLLERMirror4"/>
  <axis xyz="-0.707107 -0.0 -0.707107"/>
</joint>
<transmission name="Revolute_37_tran">
  <type>transmission_interface/SimpleTransmission</type>
  <joint name="Revolute_37">
    <hardwareInterface>PositionJointInterface</hardwareInterface>
  </joint>
  <actuator name="Revolute_37_actr">
    <hardwareInterface>PositionJointInterface</hardwareInterface>
    <mechanicalReduction>1</mechanicalReduction>
  </actuator>
</transmission>

<joint name="Revolute_38" type="continuous">
  <origin xyz="0.016067 0.000301 -0.023" rpy="0 0 0"/>
  <parent link="FRAMEMirrorMirror1"/>
  <child link="ROLLERMirrorMirror1"/>
  <axis xyz="0.707107 0.707107 -0.0"/>
</joint>
<transmission name="Revolute_38_tran">
  <type>transmission_interface/SimpleTransmission</type>
  <joint name="Revolute_38">
    <hardwareInterface>PositionJointInterface</hardwareInterface>
  </joint>
  <actuator name="Revolute_38_actr">
    <hardwareInterface>PositionJointInterface</hardwareInterface>
    <mechanicalReduction>1</mechanicalReduction>
  </actuator>
</transmission>

<joint name="Revolute_39" type="continuous">
  <origin xyz="0.016067 0.016476 -0.016051" rpy="0 0 0"/>
  <parent link="FRAMEMirrorMirror1"/>
  <child link="ROLLERMirrorMirror2"/>
  <axis xyz="0.707107 0.5 0.5"/>
</joint>
<transmission name="Revolute_39_tran">
  <type>transmission_interface/SimpleTransmission</type>
  <joint name="Revolute_39">
    <hardwareInterface>PositionJointInterface</hardwareInterface>
  </joint>
  <actuator name="Revolute_39_actr">
    <hardwareInterface>PositionJointInterface</hardwareInterface>
    <mechanicalReduction>1</mechanicalReduction>
  </actuator>
</transmission>

<joint name="Revolute_40" type="continuous">
  <origin xyz="0.016067 0.023 0.000301" rpy="0 0 0"/>
  <parent link="FRAMEMirrorMirror1"/>
  <child link="ROLLERMirrorMirror4"/>
  <axis xyz="0.707107 -0.0 0.707107"/>
</joint>
<transmission name="Revolute_40_tran">
  <type>transmission_interface/SimpleTransmission</type>
  <joint name="Revolute_40">
    <hardwareInterface>PositionJointInterface</hardwareInterface>
  </joint>
  <actuator name="Revolute_40_actr">
    <hardwareInterface>PositionJointInterface</hardwareInterface>
    <mechanicalReduction>1</mechanicalReduction>
  </actuator>
</transmission>

<joint name="Revolute_41" type="continuous">
  <origin xyz="0.016067 -0.016476 0.016051" rpy="0 0 0"/>
  <parent link="FRAMEMirrorMirror1"/>
  <child link="ROLLERMirrorMirror7"/>
  <axis xyz="0.707107 -0.5 -0.5"/>
</joint>
<transmission name="Revolute_41_tran">
  <type>transmission_interface/SimpleTransmission</type>
  <joint name="Revolute_41">
    <hardwareInterface>PositionJointInterface</hardwareInterface>
  </joint>
  <actuator name="Revolute_41_actr">
    <hardwareInterface>PositionJointInterface</hardwareInterface>
    <mechanicalReduction>1</mechanicalReduction>
  </actuator>
</transmission>

<joint name="Revolute_42" type="continuous">
  <origin xyz="0.016067 -0.016051 -0.016476" rpy="0 0 0"/>
  <parent link="FRAMEMirrorMirror1"/>
  <child link="ROLLERMirrorMirror8"/>
  <axis xyz="0.707107 0.5 -0.5"/>
</joint>
<transmission name="Revolute_42_tran">
  <type>transmission_interface/SimpleTransmission</type>
  <joint name="Revolute_42">
    <hardwareInterface>PositionJointInterface</hardwareInterface>
  </joint>
  <actuator name="Revolute_42_actr">
    <hardwareInterface>PositionJointInterface</hardwareInterface>
    <mechanicalReduction>1</mechanicalReduction>
  </actuator>
</transmission>

<joint name="Revolute_43" type="continuous">
  <origin xyz="0.016067 -0.023 -0.000301" rpy="0 0 0"/>
  <parent link="FRAMEMirrorMirror1"/>
  <child link="ROLLERMirrorMirror6"/>
  <axis xyz="0.707107 -0.0 -0.707107"/>
</joint>
<transmission name="Revolute_43_tran">
  <type>transmission_interface/SimpleTransmission</type>
  <joint name="Revolute_43">
    <hardwareInterface>PositionJointInterface</hardwareInterface>
  </joint>
  <actuator name="Revolute_43_actr">
    <hardwareInterface>PositionJointInterface</hardwareInterface>
    <mechanicalReduction>1</mechanicalReduction>
  </actuator>
</transmission>

<joint name="Revolute_44" type="continuous">
  <origin xyz="0.016067 -0.000301 0.023" rpy="0 0 0"/>
  <parent link="FRAMEMirrorMirror1"/>
  <child link="ROLLERMirrorMirror5"/>
  <axis xyz="0.707107 -0.707107 0.0"/>
</joint>
<transmission name="Revolute_44_tran">
  <type>transmission_interface/SimpleTransmission</type>
  <joint name="Revolute_44">
    <hardwareInterface>PositionJointInterface</hardwareInterface>
  </joint>
  <actuator name="Revolute_44_actr">
    <hardwareInterface>PositionJointInterface</hardwareInterface>
    <mechanicalReduction>1</mechanicalReduction>
  </actuator>
</transmission>

<joint name="Revolute_45" type="continuous">
  <origin xyz="0.016067 0.016051 0.016476" rpy="0 0 0"/>
  <parent link="FRAMEMirrorMirror1"/>
  <child link="ROLLERMirrorMirror3"/>
  <axis xyz="0.707107 -0.5 0.5"/>
</joint>
<transmission name="Revolute_45_tran">
  <type>transmission_interface/SimpleTransmission</type>
  <joint name="Revolute_45">
    <hardwareInterface>PositionJointInterface</hardwareInterface>
  </joint>
  <actuator name="Revolute_45_actr">
    <hardwareInterface>PositionJointInterface</hardwareInterface>
    <mechanicalReduction>1</mechanicalReduction>
  </actuator>
</transmission>

<joint name="Revolute_46" type="continuous">
  <origin xyz="-0.016067 0.023 0.000301" rpy="0 0 0"/>
  <parent link="FRAMEMirrorMirrorMirror1"/>
  <child link="ROLLERMirrorMirrorMirror7"/>
  <axis xyz="0.707107 0.0 -0.707107"/>
</joint>
<transmission name="Revolute_46_tran">
  <type>transmission_interface/SimpleTransmission</type>
  <joint name="Revolute_46">
    <hardwareInterface>PositionJointInterface</hardwareInterface>
  </joint>
  <actuator name="Revolute_46_actr">
    <hardwareInterface>PositionJointInterface</hardwareInterface>
    <mechanicalReduction>1</mechanicalReduction>
  </actuator>
</transmission>

<joint name="Revolute_47" type="continuous">
  <origin xyz="-0.016067 -0.000301 0.023" rpy="0 0 0"/>
  <parent link="FRAMEMirrorMirrorMirror1"/>
  <child link="ROLLERMirrorMirrorMirror2"/>
  <axis xyz="0.707107 0.707107 0.0"/>
</joint>
<transmission name="Revolute_47_tran">
  <type>transmission_interface/SimpleTransmission</type>
  <joint name="Revolute_47">
    <hardwareInterface>PositionJointInterface</hardwareInterface>
  </joint>
  <actuator name="Revolute_47_actr">
    <hardwareInterface>PositionJointInterface</hardwareInterface>
    <mechanicalReduction>1</mechanicalReduction>
  </actuator>
</transmission>

<joint name="Revolute_48" type="continuous">
  <origin xyz="-0.016067 -0.016476 0.016051" rpy="0 0 0"/>
  <parent link="FRAMEMirrorMirrorMirror1"/>
  <child link="ROLLERMirrorMirrorMirror4"/>
  <axis xyz="0.707107 0.5 0.5"/>
</joint>
<transmission name="Revolute_48_tran">
  <type>transmission_interface/SimpleTransmission</type>
  <joint name="Revolute_48">
    <hardwareInterface>PositionJointInterface</hardwareInterface>
  </joint>
  <actuator name="Revolute_48_actr">
    <hardwareInterface>PositionJointInterface</hardwareInterface>
    <mechanicalReduction>1</mechanicalReduction>
  </actuator>
</transmission>

<joint name="Revolute_49" type="continuous">
  <origin xyz="-0.016067 -0.016051 -0.016476" rpy="0 0 0"/>
  <parent link="FRAMEMirrorMirrorMirror1"/>
  <child link="ROLLERMirrorMirrorMirror3"/>
  <axis xyz="0.707107 -0.5 0.5"/>
</joint>
<transmission name="Revolute_49_tran">
  <type>transmission_interface/SimpleTransmission</type>
  <joint name="Revolute_49">
    <hardwareInterface>PositionJointInterface</hardwareInterface>
  </joint>
  <actuator name="Revolute_49_actr">
    <hardwareInterface>PositionJointInterface</hardwareInterface>
    <mechanicalReduction>1</mechanicalReduction>
  </actuator>
</transmission>

<joint name="Revolute_50" type="continuous">
  <origin xyz="-0.016067 0.000301 -0.023" rpy="0 0 0"/>
  <parent link="FRAMEMirrorMirrorMirror1"/>
  <child link="ROLLERMirrorMirrorMirror5"/>
  <axis xyz="0.707107 -0.707107 -0.0"/>
</joint>
<transmission name="Revolute_50_tran">
  <type>transmission_interface/SimpleTransmission</type>
  <joint name="Revolute_50">
    <hardwareInterface>PositionJointInterface</hardwareInterface>
  </joint>
  <actuator name="Revolute_50_actr">
    <hardwareInterface>PositionJointInterface</hardwareInterface>
    <mechanicalReduction>1</mechanicalReduction>
  </actuator>
</transmission>

<joint name="Revolute_51" type="continuous">
  <origin xyz="-0.016067 0.016476 -0.016051" rpy="0 0 0"/>
  <parent link="FRAMEMirrorMirrorMirror1"/>
  <child link="ROLLERMirrorMirrorMirror6"/>
  <axis xyz="0.707107 -0.5 -0.5"/>
</joint>
<transmission name="Revolute_51_tran">
  <type>transmission_interface/SimpleTransmission</type>
  <joint name="Revolute_51">
    <hardwareInterface>PositionJointInterface</hardwareInterface>
  </joint>
  <actuator name="Revolute_51_actr">
    <hardwareInterface>PositionJointInterface</hardwareInterface>
    <mechanicalReduction>1</mechanicalReduction>
  </actuator>
</transmission>

<joint name="Revolute_52" type="continuous">
  <origin xyz="-0.016067 0.016051 0.016476" rpy="0 0 0"/>
  <parent link="FRAMEMirrorMirrorMirror1"/>
  <child link="ROLLERMirrorMirrorMirror1"/>
  <axis xyz="0.707107 0.5 -0.5"/>
</joint>
<transmission name="Revolute_52_tran">
  <type>transmission_interface/SimpleTransmission</type>
  <joint name="Revolute_52">
    <hardwareInterface>PositionJointInterface</hardwareInterface>
  </joint>
  <actuator name="Revolute_52_actr">
    <hardwareInterface>PositionJointInterface</hardwareInterface>
    <mechanicalReduction>1</mechanicalReduction>
  </actuator>
</transmission>

<joint name="Revolute_53" type="continuous">
  <origin xyz="-0.016067 -0.023 -0.000301" rpy="0 0 0"/>
  <parent link="FRAMEMirrorMirrorMirror1"/>
  <child link="ROLLERMirrorMirrorMirror8"/>
  <axis xyz="0.707107 -0.0 0.707107"/>
</joint>
<transmission name="Revolute_53_tran">
  <type>transmission_interface/SimpleTransmission</type>
  <joint name="Revolute_53">
    <hardwareInterface>PositionJointInterface</hardwareInterface>
  </joint>
  <actuator name="Revolute_53_actr">
    <hardwareInterface>PositionJointInterface</hardwareInterface>
    <mechanicalReduction>1</mechanicalReduction>
  </actuator>
</transmission>

<joint name="Revolute_54" type="continuous">
  <origin xyz="-0.016067 0.000301 0.023" rpy="0 0 0"/>
  <parent link="FRAMEMirrorMirror_11"/>
  <child link="ROLLERMirrorMirror_11"/>
  <axis xyz="-0.707107 0.707107 0.0"/>
</joint>
<transmission name="Revolute_54_tran">
  <type>transmission_interface/SimpleTransmission</type>
  <joint name="Revolute_54">
    <hardwareInterface>PositionJointInterface</hardwareInterface>
  </joint>
  <actuator name="Revolute_54_actr">
    <hardwareInterface>PositionJointInterface</hardwareInterface>
    <mechanicalReduction>1</mechanicalReduction>
  </actuator>
</transmission>

<joint name="Revolute_55" type="continuous">
  <origin xyz="-0.016067 0.016476 0.016051" rpy="0 0 0"/>
  <parent link="FRAMEMirrorMirror_11"/>
  <child link="ROLLERMirrorMirror_12"/>
  <axis xyz="-0.707107 0.5 -0.5"/>
</joint>
<transmission name="Revolute_55_tran">
  <type>transmission_interface/SimpleTransmission</type>
  <joint name="Revolute_55">
    <hardwareInterface>PositionJointInterface</hardwareInterface>
  </joint>
  <actuator name="Revolute_55_actr">
    <hardwareInterface>PositionJointInterface</hardwareInterface>
    <mechanicalReduction>1</mechanicalReduction>
  </actuator>
</transmission>

<joint name="Revolute_56" type="continuous">
  <origin xyz="-0.016067 0.023 -0.000301" rpy="0 0 0"/>
  <parent link="FRAMEMirrorMirror_11"/>
  <child link="ROLLERMirrorMirror_14"/>
  <axis xyz="-0.707107 0.0 -0.707107"/>
</joint>
<transmission name="Revolute_56_tran">
  <type>transmission_interface/SimpleTransmission</type>
  <joint name="Revolute_56">
    <hardwareInterface>PositionJointInterface</hardwareInterface>
  </joint>
  <actuator name="Revolute_56_actr">
    <hardwareInterface>PositionJointInterface</hardwareInterface>
    <mechanicalReduction>1</mechanicalReduction>
  </actuator>
</transmission>

<joint name="Revolute_57" type="continuous">
  <origin xyz="-0.016067 0.016051 -0.016476" rpy="0 0 0"/>
  <parent link="FRAMEMirrorMirror_11"/>
  <child link="ROLLERMirrorMirror_13"/>
  <axis xyz="-0.707107 -0.5 -0.5"/>
</joint>
<transmission name="Revolute_57_tran">
  <type>transmission_interface/SimpleTransmission</type>
  <joint name="Revolute_57">
    <hardwareInterface>PositionJointInterface</hardwareInterface>
  </joint>
  <actuator name="Revolute_57_actr">
    <hardwareInterface>PositionJointInterface</hardwareInterface>
    <mechanicalReduction>1</mechanicalReduction>
  </actuator>
</transmission>

<joint name="Revolute_58" type="continuous">
  <origin xyz="-0.016067 -0.016051 0.016476" rpy="0 0 0"/>
  <parent link="FRAMEMirrorMirror_11"/>
  <child link="ROLLERMirrorMirror_18"/>
  <axis xyz="-0.707107 0.5 0.5"/>
</joint>
<transmission name="Revolute_58_tran">
  <type>transmission_interface/SimpleTransmission</type>
  <joint name="Revolute_58">
    <hardwareInterface>PositionJointInterface</hardwareInterface>
  </joint>
  <actuator name="Revolute_58_actr">
    <hardwareInterface>PositionJointInterface</hardwareInterface>
    <mechanicalReduction>1</mechanicalReduction>
  </actuator>
</transmission>

<joint name="Revolute_59" type="continuous">
  <origin xyz="-0.016067 -0.023 0.000301" rpy="0 0 0"/>
  <parent link="FRAMEMirrorMirror_11"/>
  <child link="ROLLERMirrorMirror_17"/>
  <axis xyz="-0.707107 0.0 0.707107"/>
</joint>
<transmission name="Revolute_59_tran">
  <type>transmission_interface/SimpleTransmission</type>
  <joint name="Revolute_59">
    <hardwareInterface>PositionJointInterface</hardwareInterface>
  </joint>
  <actuator name="Revolute_59_actr">
    <hardwareInterface>PositionJointInterface</hardwareInterface>
    <mechanicalReduction>1</mechanicalReduction>
  </actuator>
</transmission>

<joint name="Revolute_60" type="continuous">
  <origin xyz="-0.016067 -0.016476 -0.016051" rpy="0 0 0"/>
  <parent link="FRAMEMirrorMirror_11"/>
  <child link="ROLLERMirrorMirror_16"/>
  <axis xyz="-0.707107 -0.5 0.5"/>
</joint>
<transmission name="Revolute_60_tran">
  <type>transmission_interface/SimpleTransmission</type>
  <joint name="Revolute_60">
    <hardwareInterface>PositionJointInterface</hardwareInterface>
  </joint>
  <actuator name="Revolute_60_actr">
    <hardwareInterface>PositionJointInterface</hardwareInterface>
    <mechanicalReduction>1</mechanicalReduction>
  </actuator>
</transmission>

<joint name="Revolute_61" type="continuous">
  <origin xyz="-0.016067 -0.000301 -0.023" rpy="0 0 0"/>
  <parent link="FRAMEMirrorMirror_11"/>
  <child link="ROLLERMirrorMirror_15"/>
  <axis xyz="-0.707107 -0.707107 -0.0"/>
</joint>
<transmission name="Revolute_61_tran">
  <type>transmission_interface/SimpleTransmission</type>
  <joint name="Revolute_61">
    <hardwareInterface>PositionJointInterface</hardwareInterface>
  </joint>
  <actuator name="Revolute_61_actr">
    <hardwareInterface>PositionJointInterface</hardwareInterface>
    <mechanicalReduction>1</mechanicalReduction>
  </actuator>
</transmission>

<joint name="Revolute_66" type="continuous">
  <origin xyz="-0.15 0.18 0.01" rpy="0 0 0"/>
  <parent link="base_link"/>
  <child link="FRAMEMirrorMirror_11"/>
  <axis xyz="-1.0 0.0 0.0"/>
</joint>
<transmission name="Revolute_66_tran">
  <type>transmission_interface/SimpleTransmission</type>
  <joint name="Revolute_66">
    <hardwareInterface>PositionJointInterface</hardwareInterface>
  </joint>
  <actuator name="Revolute_66_actr">
    <hardwareInterface>PositionJointInterface</hardwareInterface>
    <mechanicalReduction>1</mechanicalReduction>
  </actuator>
</transmission>

<joint name="Revolute_67" type="continuous">
  <origin xyz="-0.15 0.03 0.01" rpy="0 0 0"/>
  <parent link="base_link"/>
  <child link="FRAMEMirrorMirrorMirror1"/>
  <axis xyz="-1.0 0.0 0.0"/>
</joint>
<transmission name="Revolute_67_tran">
  <type>transmission_interface/SimpleTransmission</type>
  <joint name="Revolute_67">
    <hardwareInterface>PositionJointInterface</hardwareInterface>
  </joint>
  <actuator name="Revolute_67_actr">
    <hardwareInterface>PositionJointInterface</hardwareInterface>
    <mechanicalReduction>1</mechanicalReduction>
  </actuator>
</transmission>

<joint name="Revolute_68" type="continuous">
  <origin xyz="0.0 0.18 0.01" rpy="0 0 0"/>
  <parent link="base_link"/>
  <child link="FRAMEMirror1"/>
  <axis xyz="1.0 0.0 0.0"/>
</joint>
<transmission name="Revolute_68_tran">
  <type>transmission_interface/SimpleTransmission</type>
  <joint name="Revolute_68">
    <hardwareInterface>PositionJointInterface</hardwareInterface>
  </joint>
  <actuator name="Revolute_68_actr">
    <hardwareInterface>PositionJointInterface</hardwareInterface>
    <mechanicalReduction>1</mechanicalReduction>
  </actuator>
</transmission>

<joint name="Revolute_69" type="continuous">
  <origin xyz="0.0 0.03 0.01" rpy="0 0 0"/>
  <parent link="base_link"/>
  <child link="FRAMEMirrorMirror1"/>
  <axis xyz="1.0 0.0 0.0"/>
</joint>
<transmission name="Revolute_69_tran">
  <type>transmission_interface/SimpleTransmission</type>
  <joint name="Revolute_69">
    <hardwareInterface>PositionJointInterface</hardwareInterface>
  </joint>
  <actuator name="Revolute_69_actr">
    <hardwareInterface>PositionJointInterface</hardwareInterface>
    <mechanicalReduction>1</mechanicalReduction>
  </actuator>
</transmission>

</robot>
